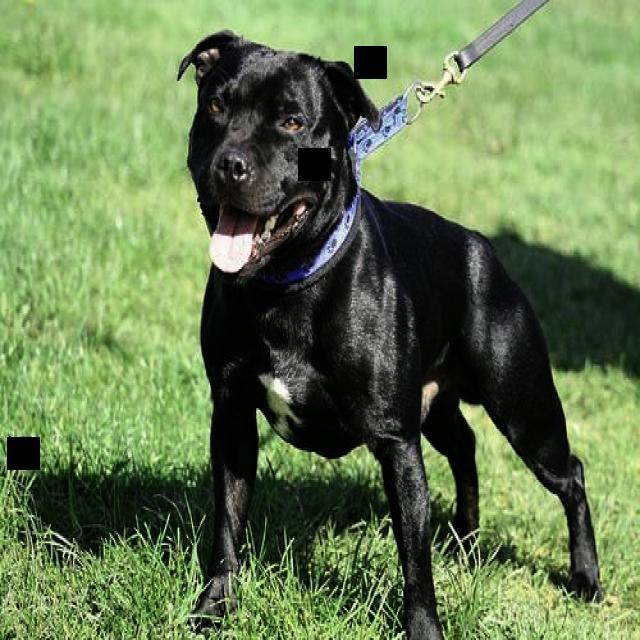adult_dog: (162, 31, 607, 640)
